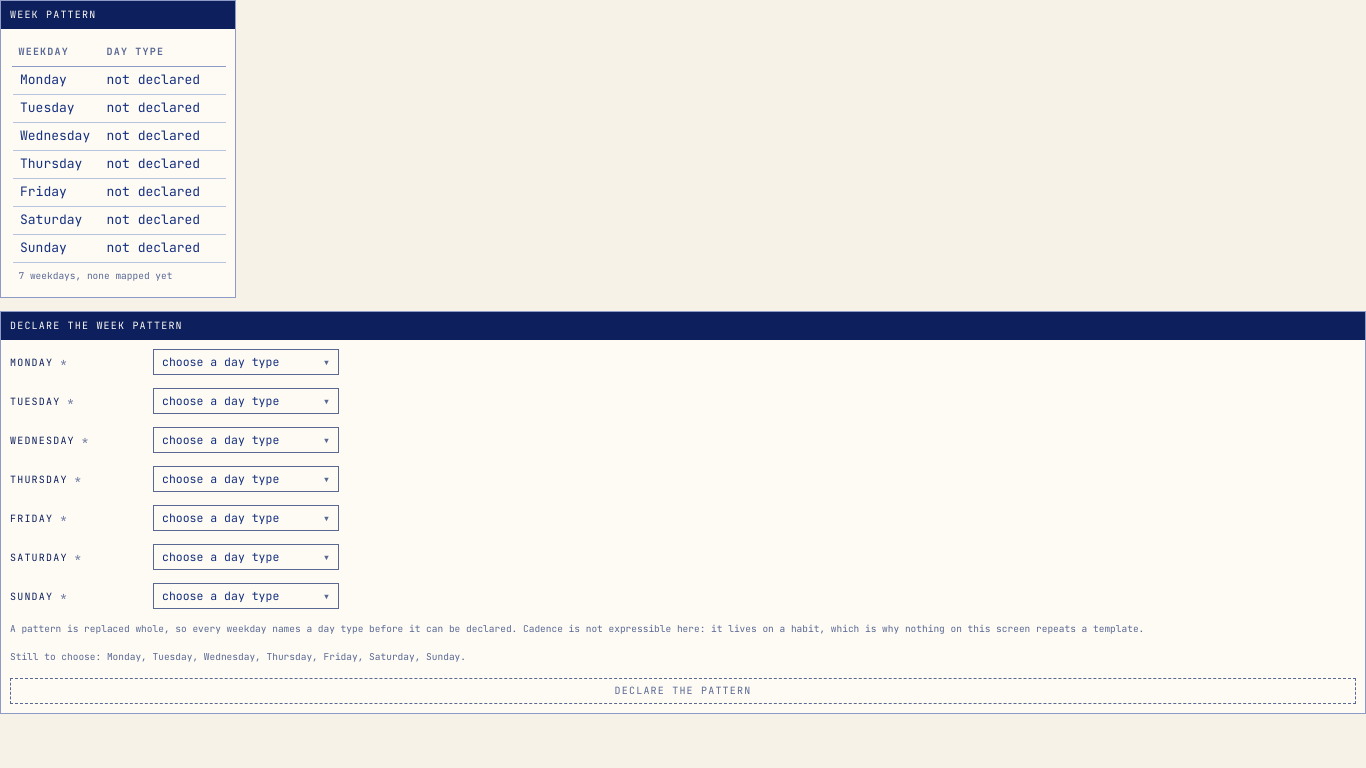
Scenario: declaring the pattern › stays inert once one weekday of seven names a day type
The width and height of the screenshot is (1366, 768).
Click the dropdown named "Monday" at (246, 362), box left=153, top=349, right=339, bottom=375
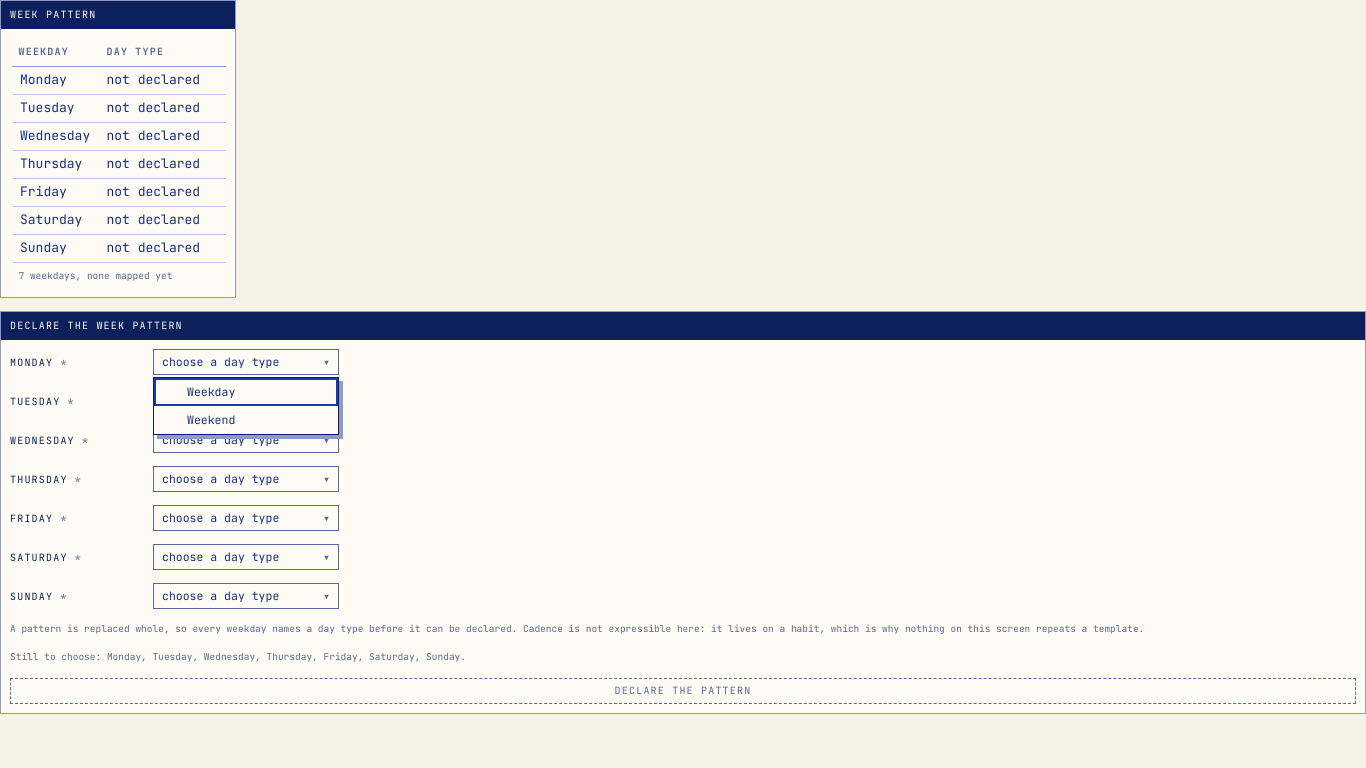
Click the option "Weekday" at (211, 391), box left=187, top=384, right=235, bottom=399
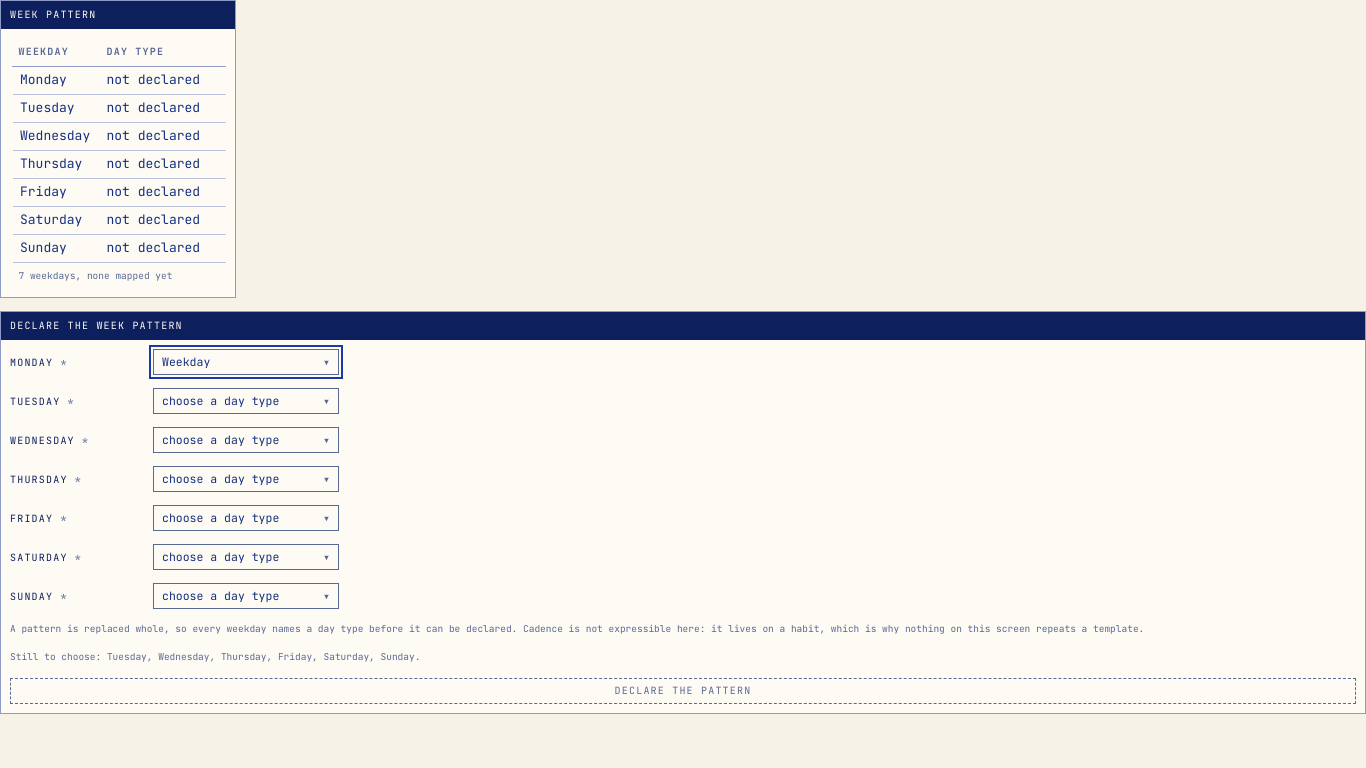
Check: the button "Declare the pattern" is disabled, box left=10, top=678, right=1356, bottom=704
Check: the text "Still to choose: Tuesday, Wednesday, Thursday, Friday, Saturday, Sunday." is shown, box left=10, top=650, right=420, bottom=663
